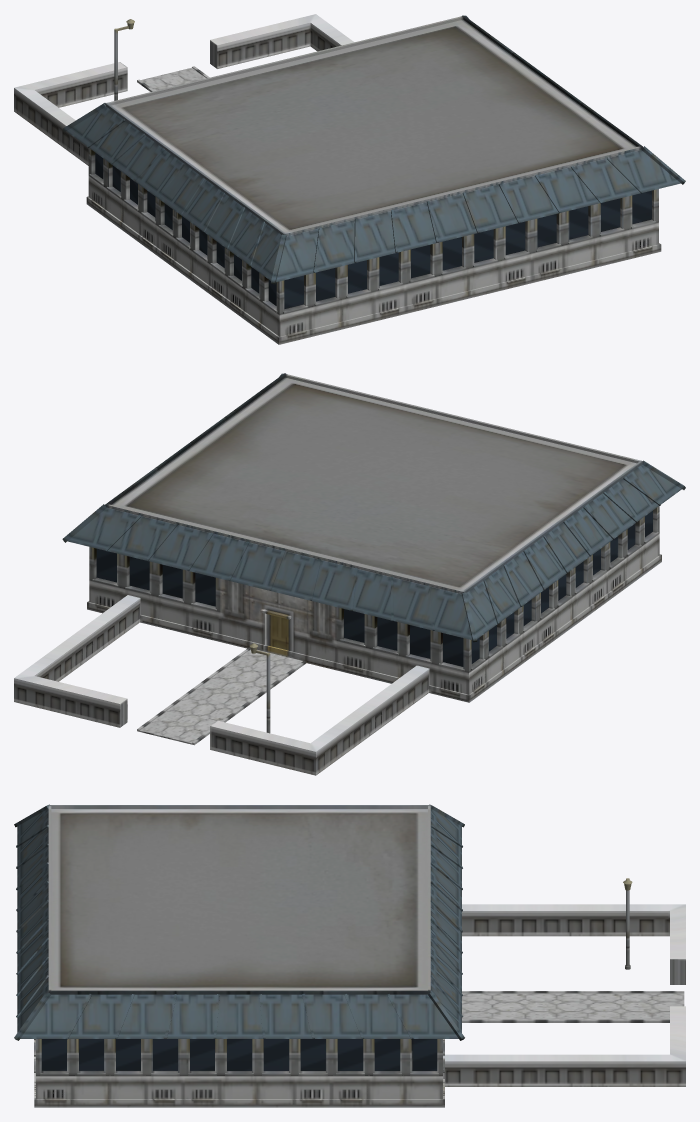
Rendered from s_govresidence_cad.glb.
3 renders of one model, top to bottom at view 1: azimuth 30°, elevation 25°; view 2: azimuth 150°, elevation 25°; view 3: azimuth 270°, elevation 25°, orthographic. The views are drawn at different scales.
Visible parts, largest first — view 1: S_GovResidence; view 2: S_GovResidence; view 3: S_GovResidence.
Part boxes in pixels (x1,y1,x2,y2): S_GovResidence: [14, 14, 685, 344]; S_GovResidence: [14, 373, 685, 775]; S_GovResidence: [14, 804, 685, 1107].
Size of the model in its own units: 24.08 by 5.7 by 31.63.
1 material, 1 textured.
